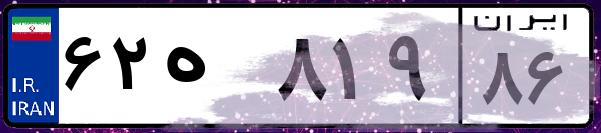1: (330, 28, 385, 110)
2: (110, 28, 158, 98)
6: (57, 26, 110, 100), (525, 38, 570, 115)
8: (270, 28, 330, 110), (475, 38, 525, 113)
9: (385, 28, 445, 110)
ه: (158, 20, 270, 120)
